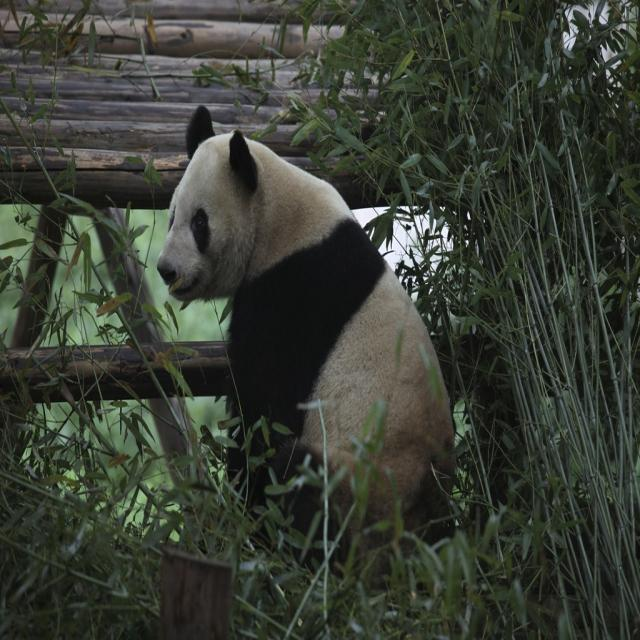panda: (156, 105, 458, 587)
